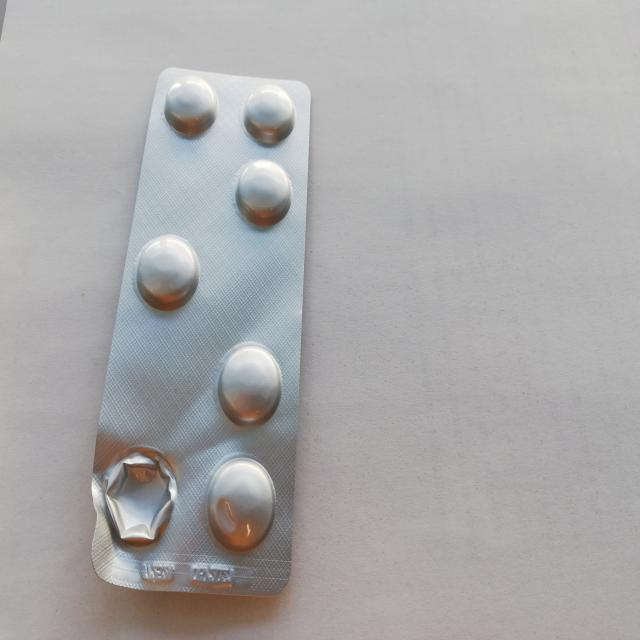Empty: (98, 446, 180, 549)
Pill: (202, 452, 278, 552), (214, 337, 285, 429), (134, 232, 200, 314), (233, 157, 293, 229), (240, 84, 298, 149), (163, 74, 219, 138)
